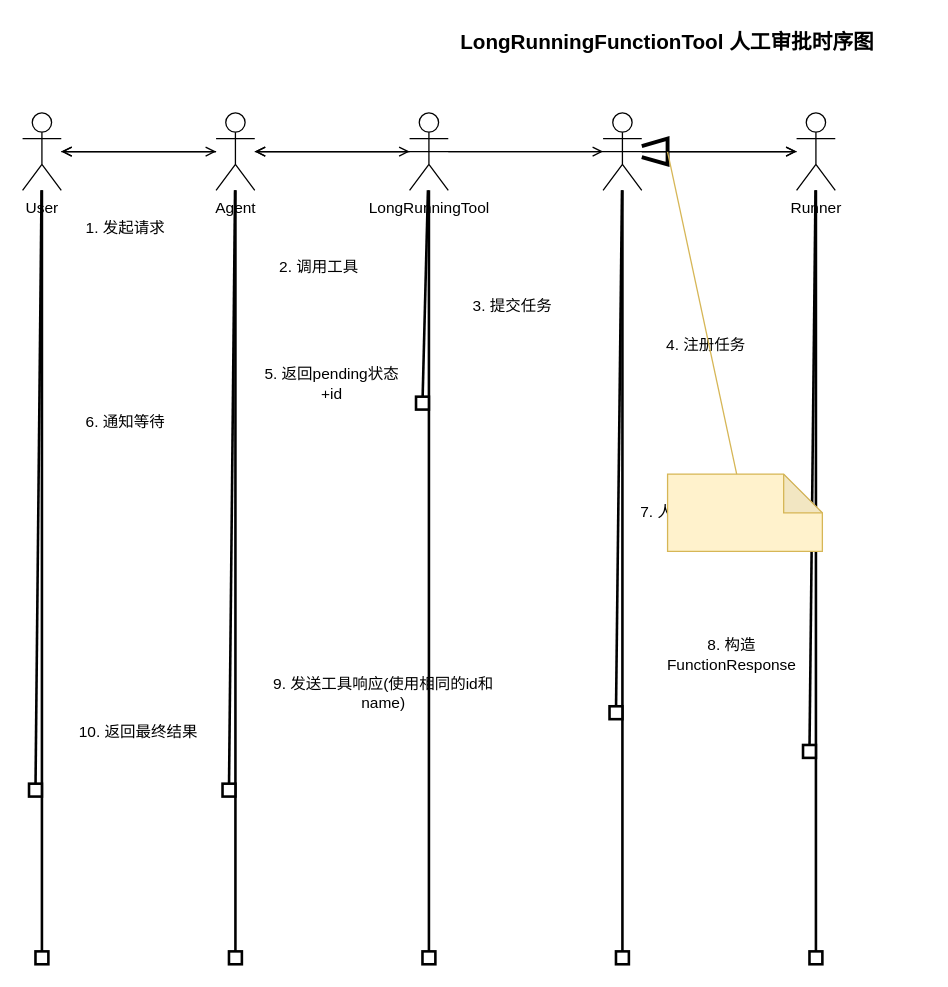
The diagram is 948 pixels wide and 987 high, and some of its shapes have lost their labels. The shapes that lost their labels are listed below. From the top down, each one's box as (x1, y1, x2, y2) in pixels, then its label:
(602, 112, 642, 190): ExternalSystem
(666, 473, 822, 551): 人工审批阶段
